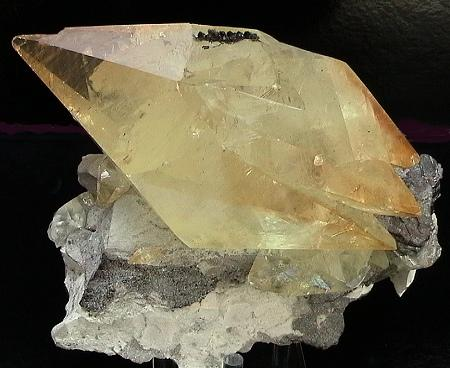calcite: (13, 24, 422, 296)
